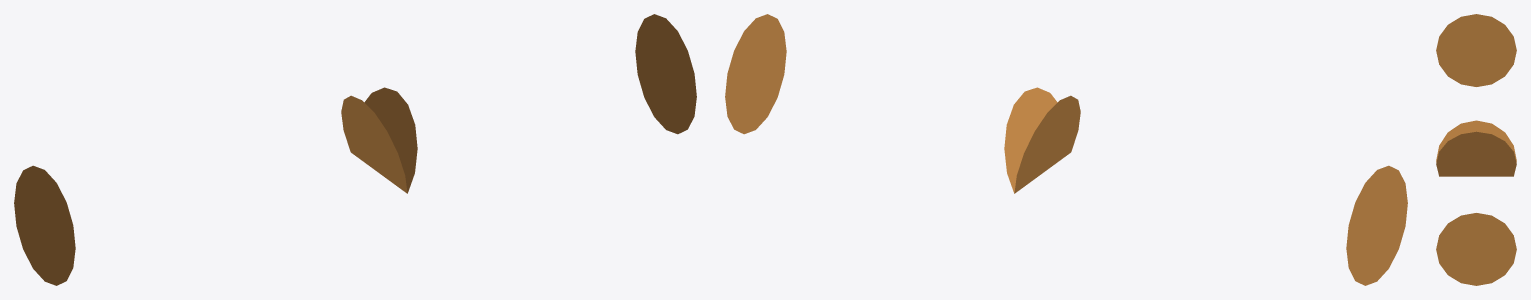
Rendered from prop_sqwing_wood_trunck_2.glb.
The picture shows the model from 3 angles, left to right: view 1: azimuth 30°, elevation 25°; view 2: azimuth 150°, elevation 25°; view 3: azimuth 270°, elevation 25°; orthographic projection. The views are drawn at different scales.
Parts seen in each view (by area): view 1: Props with out snow_Sqwing wood trunck 2_0; view 2: Props with out snow_Sqwing wood trunck 2_0; view 3: Props with out snow_Sqwing wood trunck 2_0.
Part boxes in pixels (x1,y1,x2,y2): Props with out snow_Sqwing wood trunck 2_0: [14, 14, 696, 285]; Props with out snow_Sqwing wood trunck 2_0: [725, 14, 1407, 285]; Props with out snow_Sqwing wood trunck 2_0: [1436, 14, 1516, 285].
Size of the model in its own units: 6.2 by 1.07 by 1.07.
